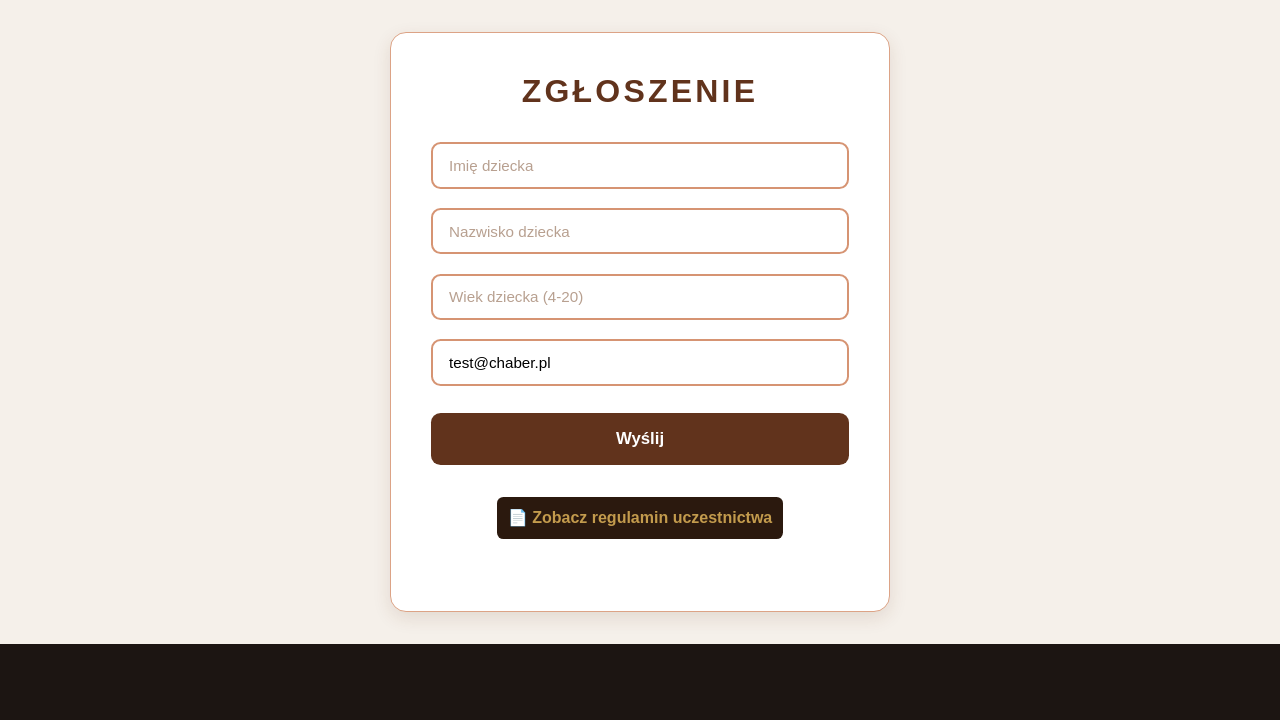
Scenario: RegisterPage Component Tests › should show validation error for invalid age
The width and height of the screenshot is (1280, 720).
Step 1. Type "Adam" into the field with placeholder "Imię dziecka" → (640, 165), box [431,142,849,189]
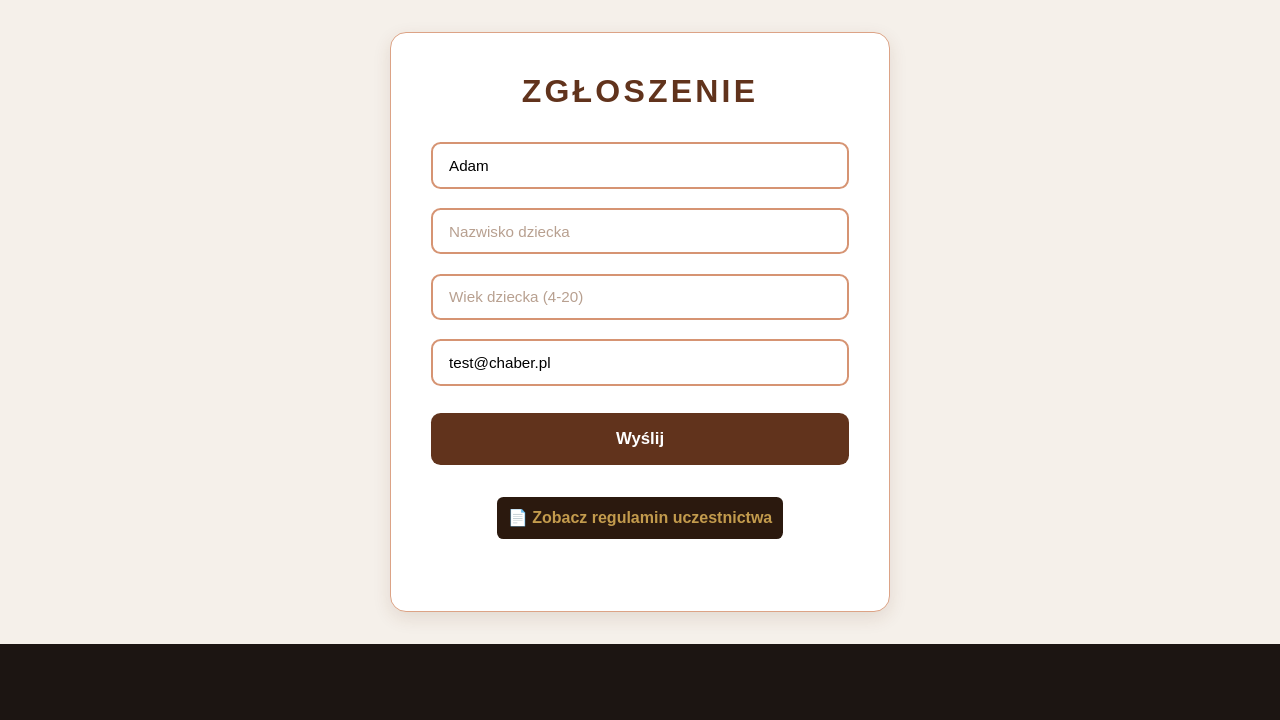
Step 2. Type "Nowak" into the field with placeholder "Nazwisko dziecka" → (640, 231), box [431,208,849,254]
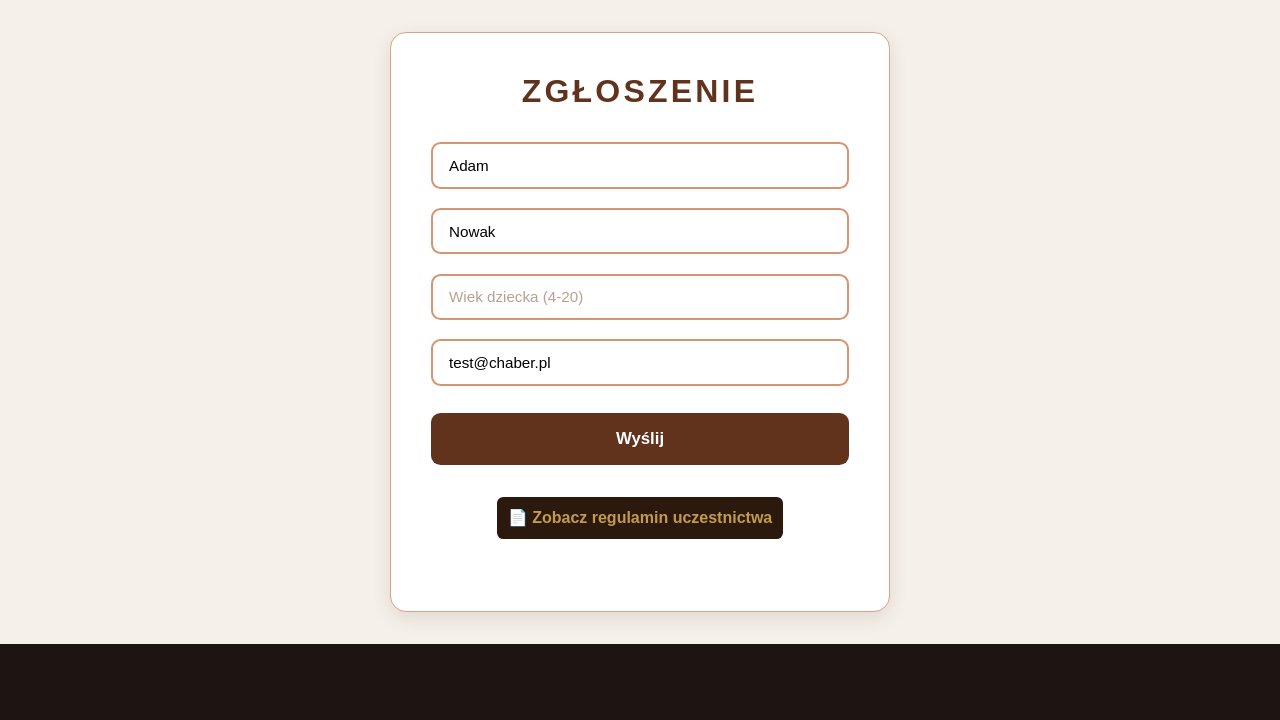
Step 3. Type "2" into the number field with placeholder "Wiek dziecka (4-20)" → (640, 297), box [431,274,849,320]
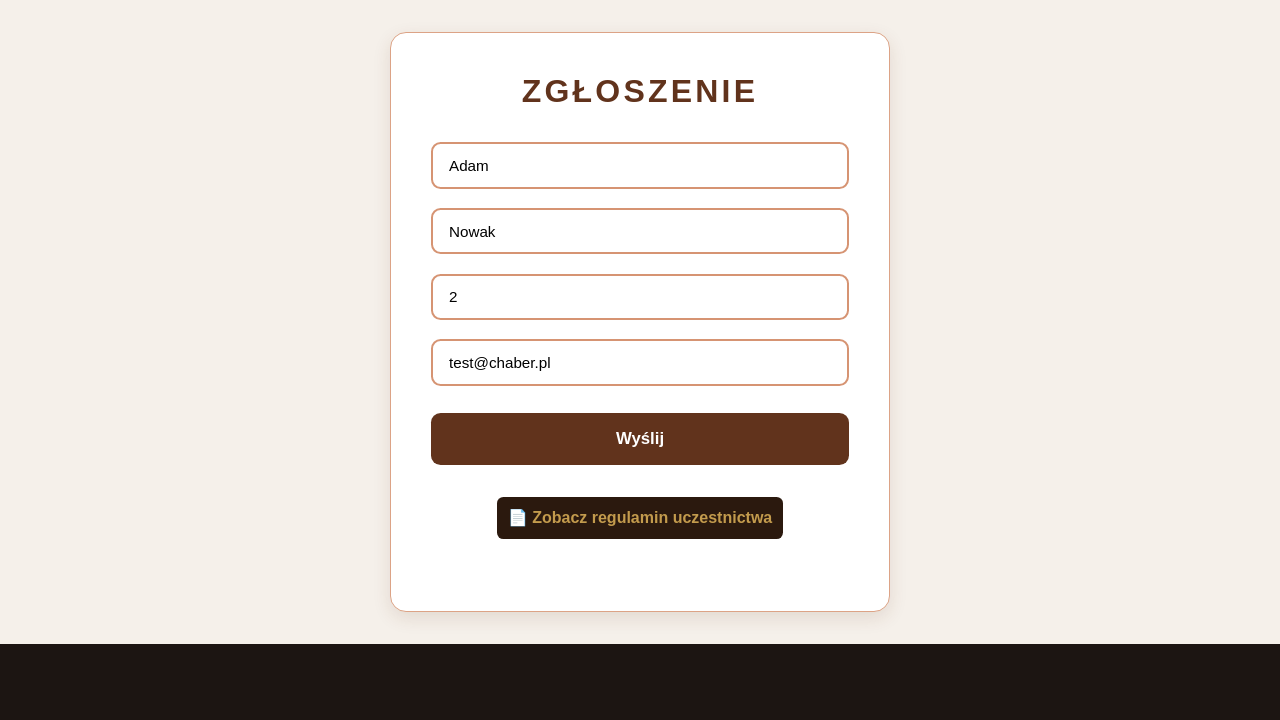
Step 4. Submit the form, box [431,142,849,465]
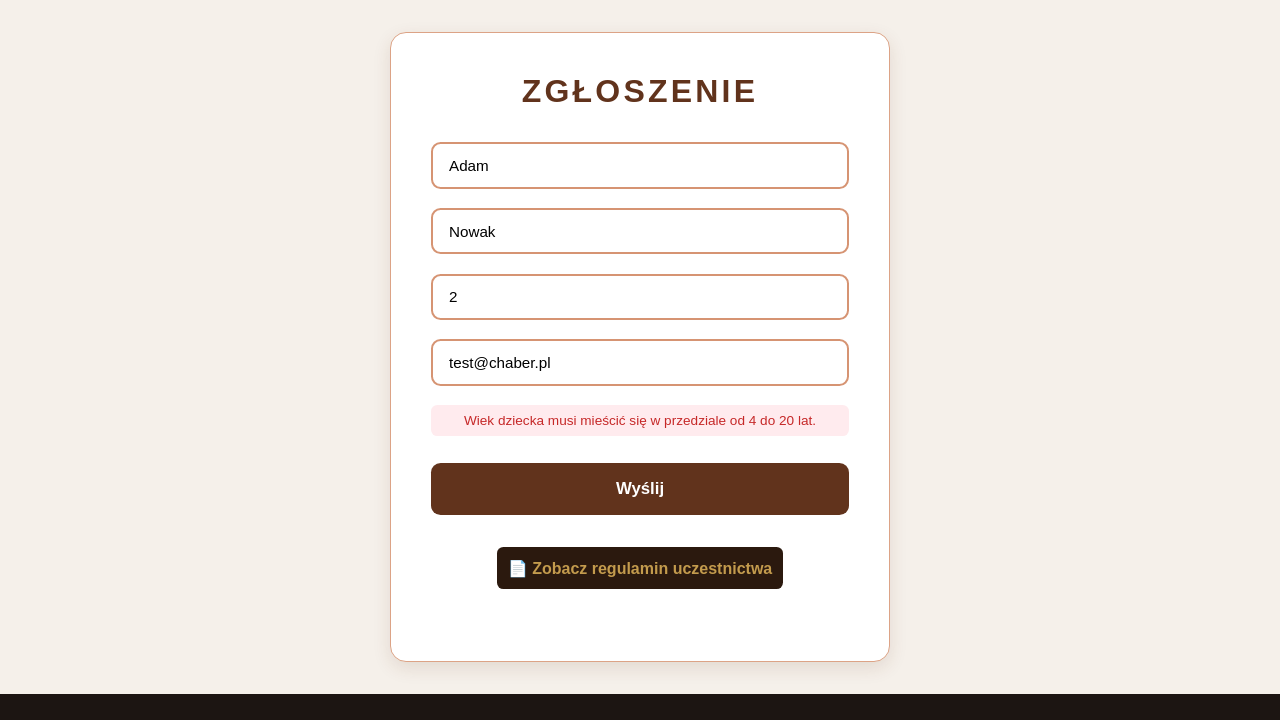
Expected: the text "Wiek dziecka musi mieścić się w przedziale od 4 do 20 lat." is shown, [431,405,849,436]
